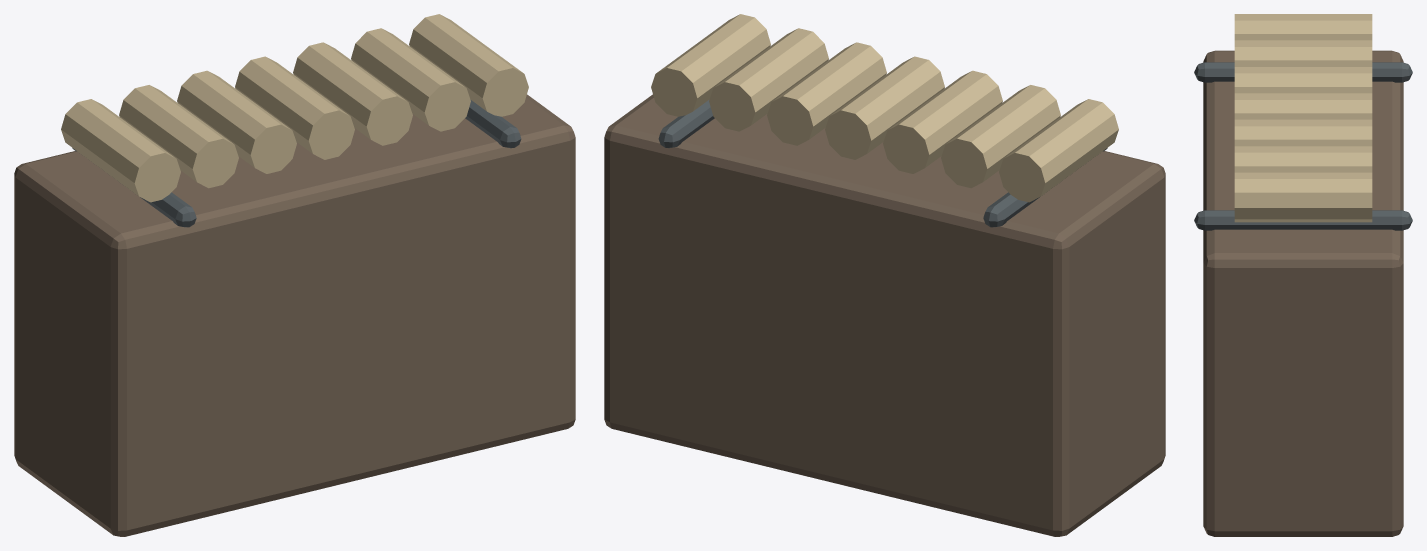
Rendered from archive_scrolls.glb.
3 views of the same model, side by side, from view 1: azimuth 30°, elevation 25°; view 2: azimuth 150°, elevation 25°; view 3: azimuth 270°, elevation 25° (orthographic). The views are drawn at different scales.
Parts seen in each view (by area): view 1: Body.073; view 2: Body.073; view 3: Body.073.
Boxes of the visible parts, <box> form: Body.073: <box>14,14,575,536</box>; Body.073: <box>604,14,1165,536</box>; Body.073: <box>1194,14,1412,536</box>.
Bounding box in the file's own units: 0.8 × 0.598 × 0.35.
